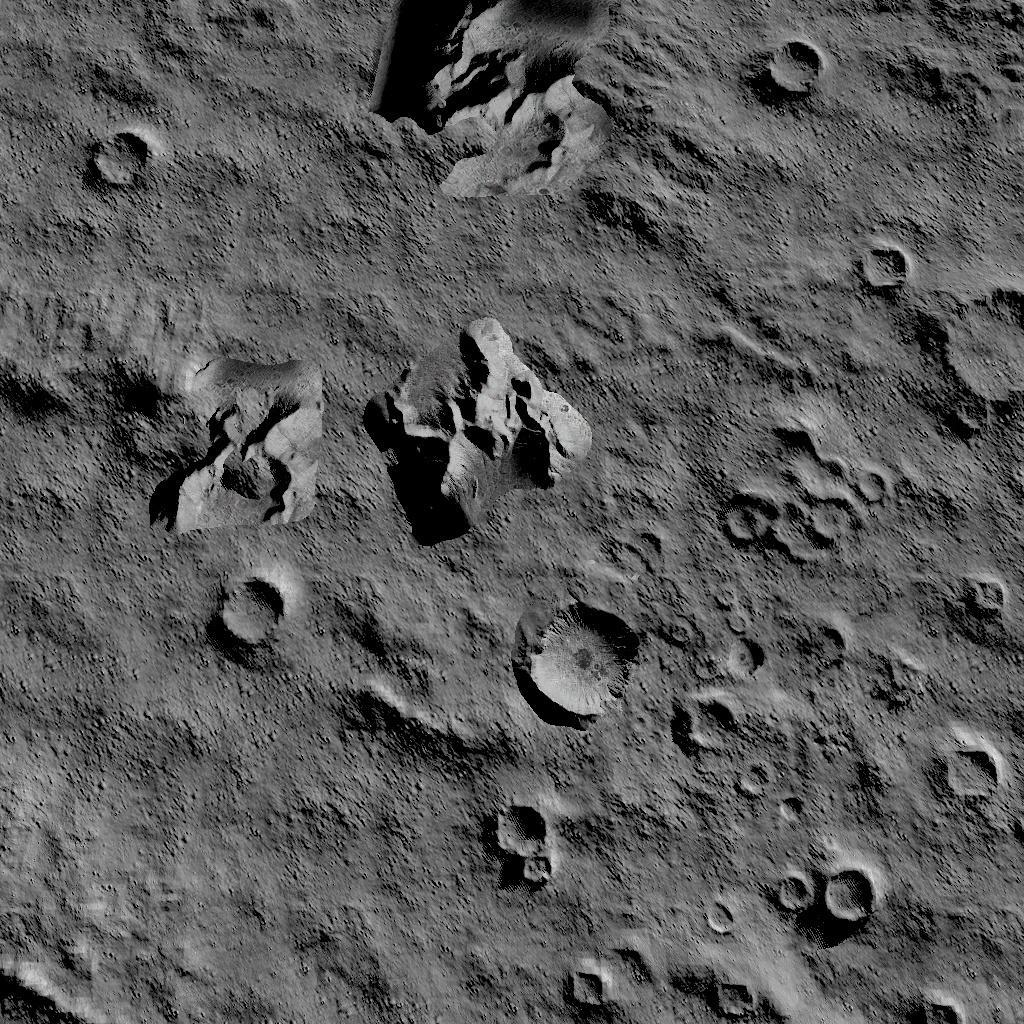Boulders: (364, 0, 708, 243), (0, 285, 318, 535), (361, 315, 593, 543), (883, 0, 1024, 118), (343, 682, 503, 780), (0, 965, 101, 1024)
Crater: (721, 418, 895, 566), (516, 600, 643, 730), (931, 285, 1024, 440), (761, 862, 885, 932), (490, 800, 560, 893), (210, 568, 286, 652), (86, 122, 153, 196), (761, 35, 828, 103), (934, 740, 1000, 808), (678, 698, 748, 758), (558, 960, 618, 1020), (856, 240, 910, 295), (711, 972, 760, 1024), (911, 988, 965, 1024)
Plan surface: (0, 548, 198, 952), (211, 795, 478, 1024), (166, 0, 353, 275), (723, 130, 1024, 228)
